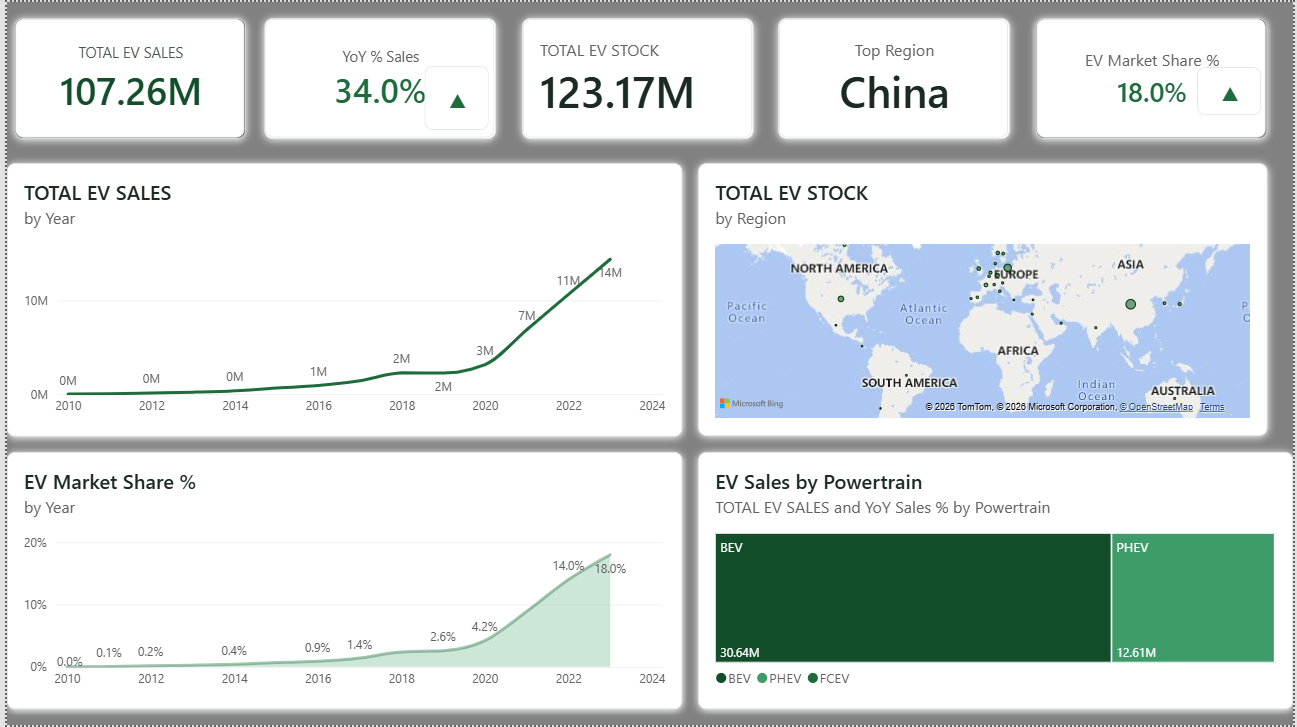

Layout of this report page (visuals, bound fields, positions):
{"tool":"powerbi","page":{"name":"GLOBAL EV OverView","canvas":[1280,720],"ordinal":1},"visuals":[{"type":"cardVisual","fields":{"Data":["IEAGLOBALEV.YoY Sales %"]},"box":[256,16,230,120],"z":3000},{"type":"cardVisual","fields":{"Data":["IEAGLOBALEV.TOTAL EV SALES"]},"box":[7.4,16.8,230,120],"z":4000},{"type":"cardVisual","fields":{"Data":["IEAGLOBALEV.TOTAL EV STOCK"]},"box":[512,16,230,120],"z":5000},{"type":"cardVisual","fields":{"Data":["IEAGLOBALEV.Top Region"]},"box":[768,16,230,120],"z":6000},{"type":"cardVisual","fields":{"Data":["IEAGLOBALEV.EV Market Share %"]},"box":[1024,16,230,120],"z":7000,"group":"g1"},{"type":"group","id":"g1","title":"Group 2","box":[1024,16,230,120],"z":7000},{"type":"cardVisual","fields":{"Data":["IEAGLOBALEV.YoY Trend Arrow"]},"box":[416,64,64,64],"z":8000},{"type":"lineChart","fields":{"Category":["IEAGLOBALEV.Year"],"Y":["IEAGLOBALEV.TOTAL EV SALES"]},"box":[0,160,672,272],"z":9000},{"type":"areaChart","fields":{"Category":["IEAGLOBALEV.Year"],"Y":["IEAGLOBALEV.EV Market Share %"]},"box":[0,448,672,256],"z":10000},{"type":"cardVisual","fields":{"Data":["IEAGLOBALEV.YoY Trend Arrow"]},"box":[1184,64,64,48],"z":11000,"group":"g1"},{"type":"treemap","title":"EV Sales by Powertrain","fields":{"Group":["IEAGLOBALEV.Powertrain"],"Values":["IEAGLOBALEV.TOTAL EV SALES"]},"box":[688,448,592,256],"z":11000},{"type":"map","fields":{"Category":["IEAGLOBALEV.Region"],"Size":["IEAGLOBALEV.TOTAL EV STOCK"]},"box":[687.9,160.5,566,271.2],"z":11001}]}

Visuals, with their boxes in screenshot pixels (x1, y1, x2, y2), scaled from the page's 1280x720 canvas onto the 1297x727 screenshot:
cardVisual - IEAGLOBALEV.YoY Sales %: <box>259,16,492,137</box>
cardVisual - IEAGLOBALEV.TOTAL EV SALES: <box>7,17,241,138</box>
cardVisual - IEAGLOBALEV.TOTAL EV STOCK: <box>519,16,752,137</box>
cardVisual - IEAGLOBALEV.Top Region: <box>778,16,1011,137</box>
cardVisual - IEAGLOBALEV.EV Market Share %: <box>1038,16,1271,137</box>
"Group 2" group: <box>1038,16,1271,137</box>
cardVisual - IEAGLOBALEV.YoY Trend Arrow: <box>422,65,486,129</box>
lineChart - IEAGLOBALEV.Year x IEAGLOBALEV.TOTAL EV SALES: <box>0,162,681,436</box>
areaChart - IEAGLOBALEV.Year x IEAGLOBALEV.EV Market Share %: <box>0,452,681,711</box>
cardVisual - IEAGLOBALEV.YoY Trend Arrow: <box>1200,65,1265,113</box>
"EV Sales by Powertrain" treemap: <box>697,452,1296,711</box>
map - IEAGLOBALEV.Region x IEAGLOBALEV.TOTAL EV STOCK: <box>697,162,1271,436</box>
